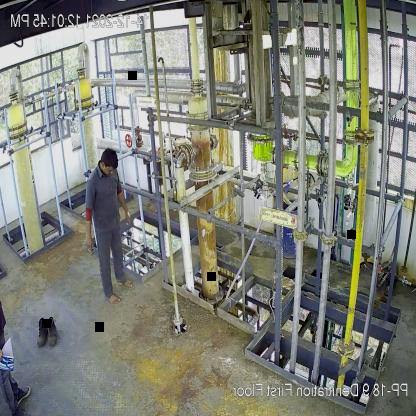no_shoes: (107, 290, 121, 304)
shoes: (44, 315, 59, 348), (36, 318, 48, 346)
